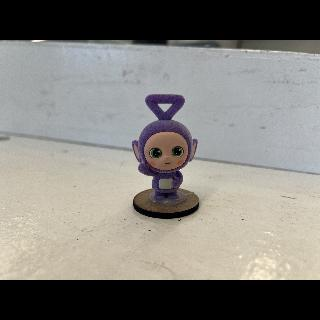teletubby: (132, 94, 198, 206)
